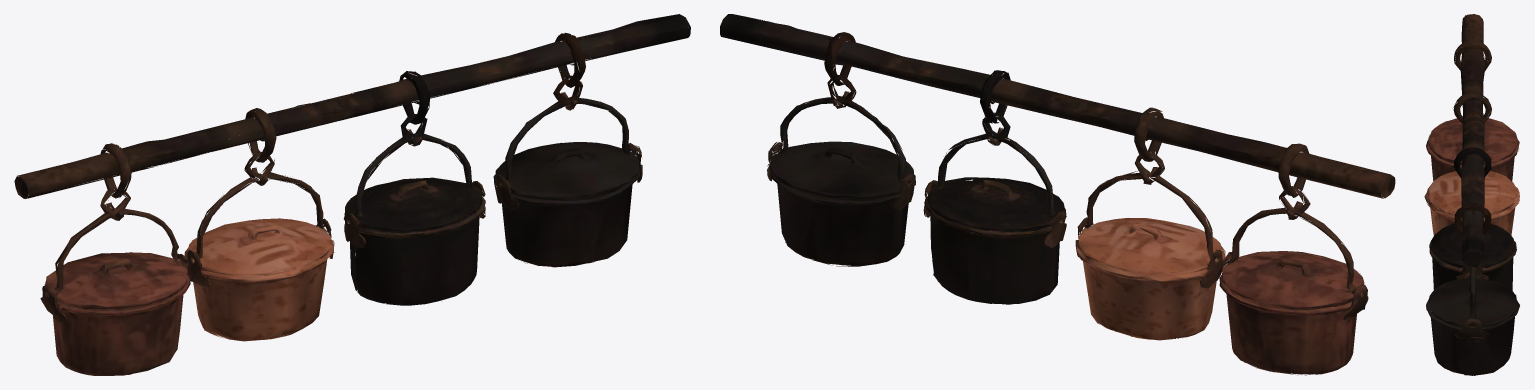
Rendered from ollas_colgadas.glb.
3 views of the same model, side by side, from view 1: azimuth 30°, elevation 25°; view 2: azimuth 150°, elevation 25°; view 3: azimuth 270°, elevation 25° (orthographic). The views are drawn at different scales.
Visible parts, largest first — view 1: geometry_0; view 2: geometry_0; view 3: geometry_0.
Boxes of the visible parts, left/top/right/bottom form: geometry_0: left=14, top=14, right=690, bottom=375; geometry_0: left=720, top=14, right=1395, bottom=375; geometry_0: left=1424, top=14, right=1519, bottom=375.
Bounding box in the file's own units: 1.3 × 0.4007 × 0.2225.
Materials: 1 (1 with a texture image).
